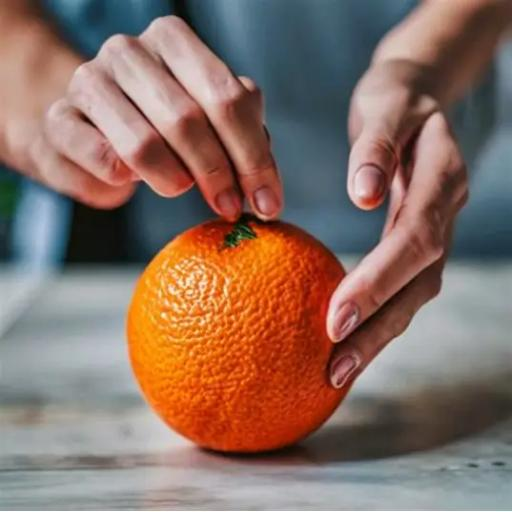orange: (127, 216, 348, 452)
